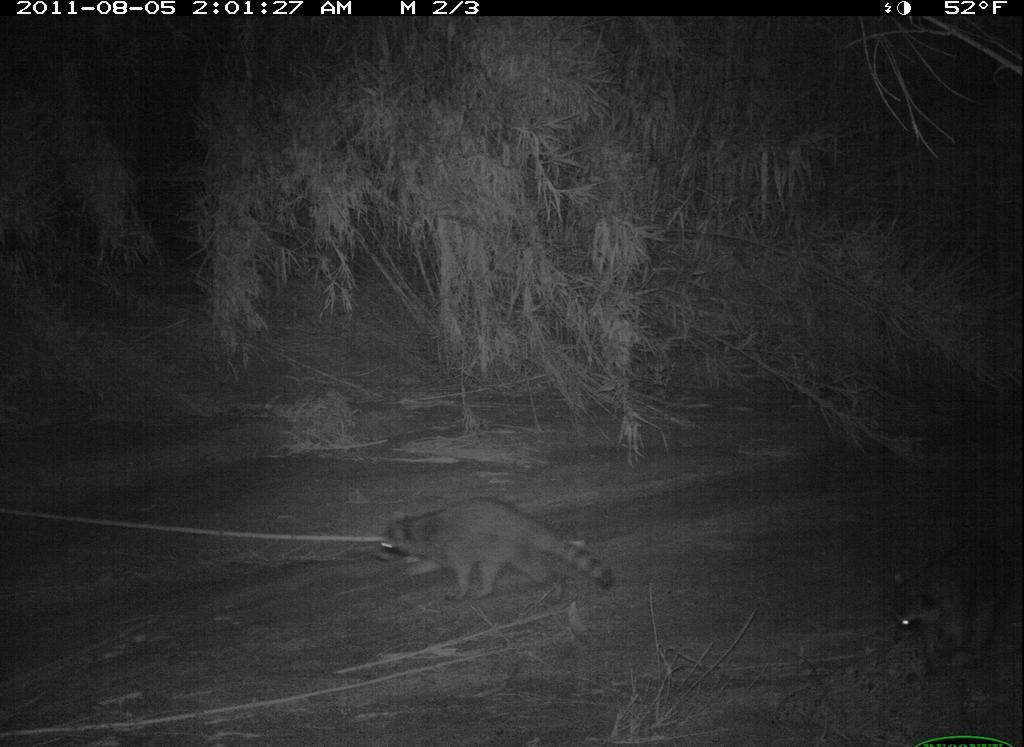raccoon: (382, 492, 617, 607), (884, 538, 1017, 667)
